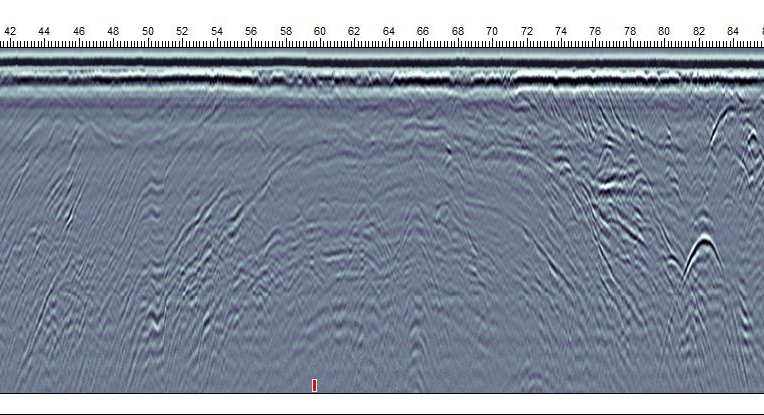hyperbola: (681, 233, 727, 278)
